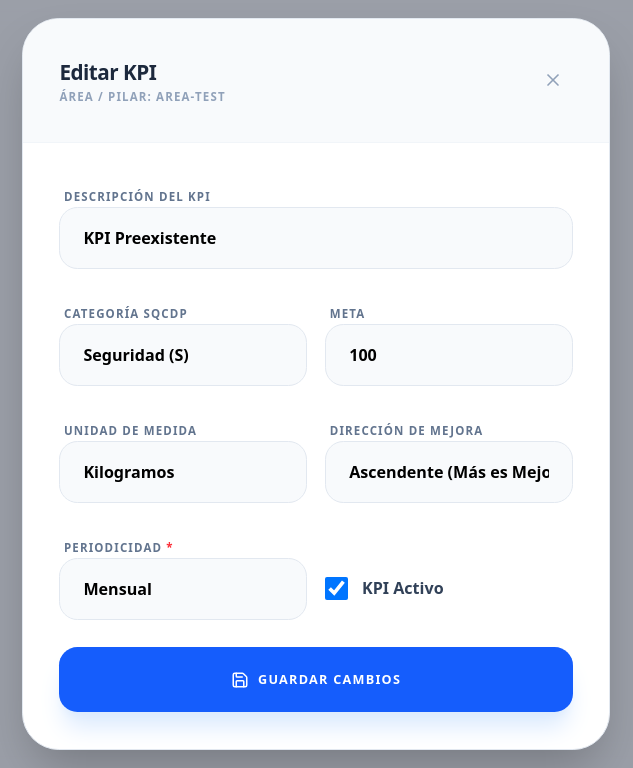
Test: KPIManager - Componente y Pruebas de Robustez (Fail-over) › debería activar el comportamiento fail-over al guardar si el servicio backend responde con error 500
The image size is (633, 768).
// Clic en Guardar Cambios
Click the button "Guardar Cambios" at (316,680), box [59,648,573,712]
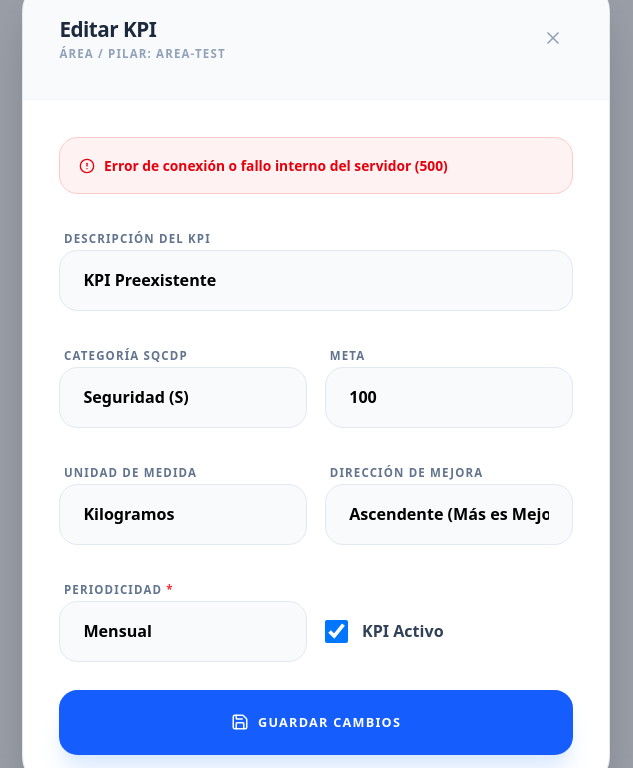
Expected: the button "Guardar Cambios" is shown, [59,690,573,755]
Expected: the text "Error de conexión o fallo interno del servidor (500)" is shown, [104,157,448,175]
